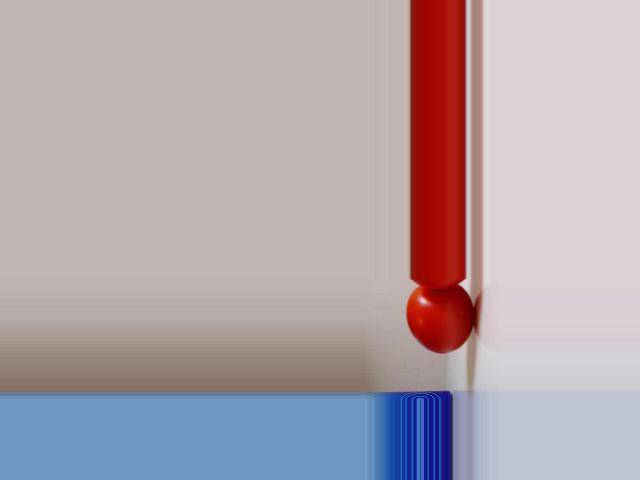tomato: (406, 286, 474, 353)
